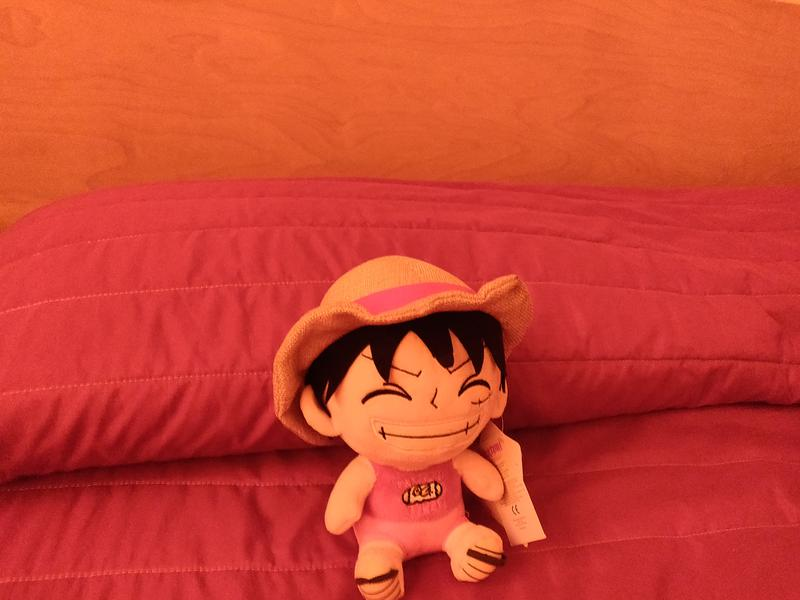rufy: (268, 245, 559, 600)
